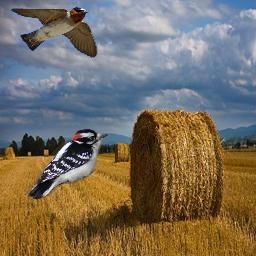Swallow: (9, 7, 98, 58)
Woodpecker: (25, 129, 108, 199)
